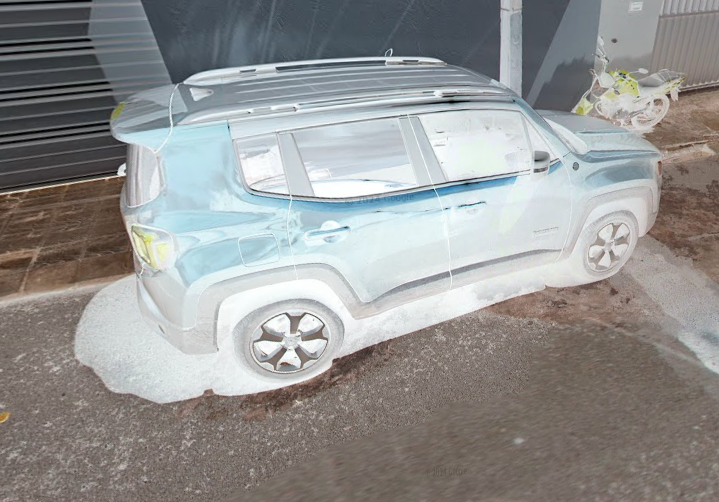car: (107, 47, 662, 385)
